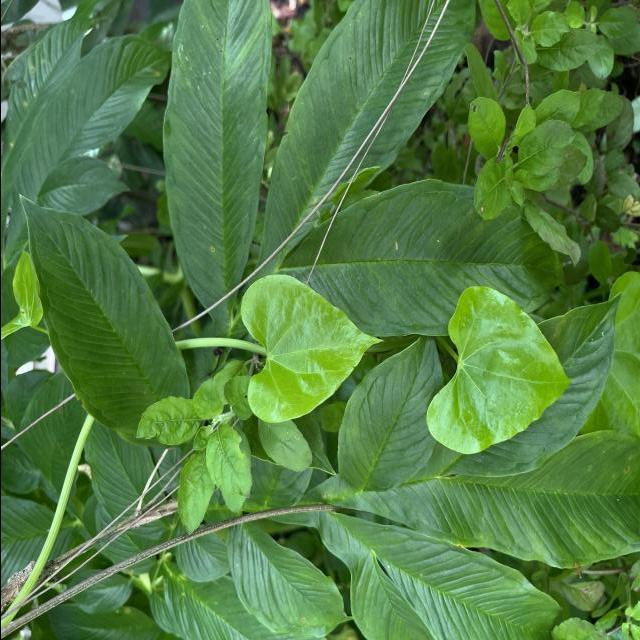Tinospora cordifolia: (422, 280, 574, 462), (238, 272, 386, 426)
